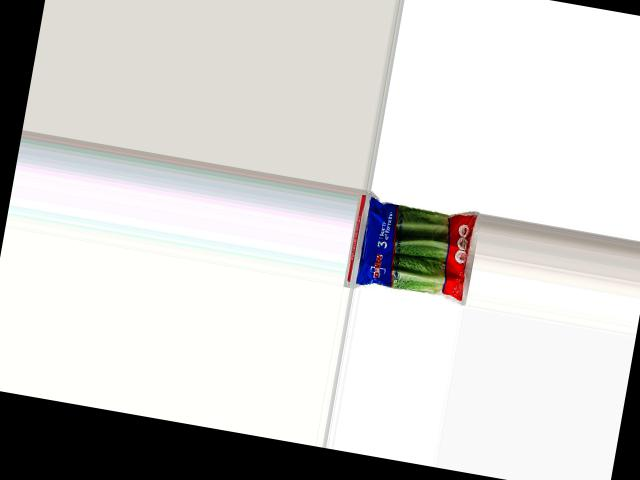lettuce: (349, 195, 481, 307)
